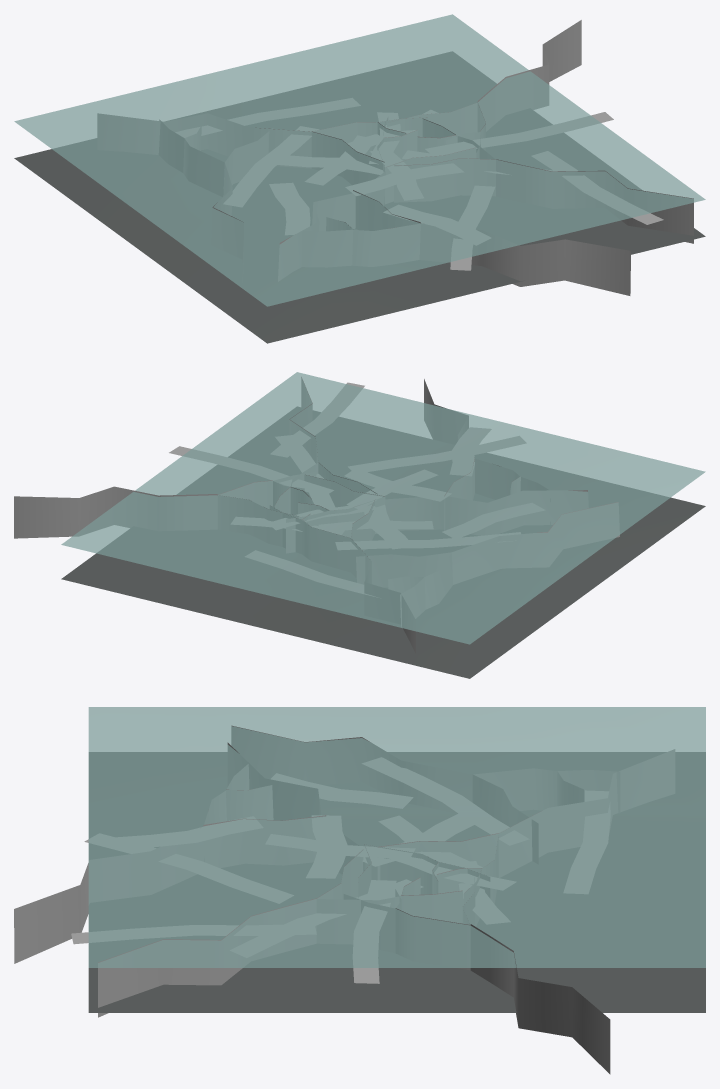
Rendered from icelake333.fbx.
The picture shows the model from 3 angles, top to bottom: view 1: azimuth 30°, elevation 25°; view 2: azimuth 150°, elevation 25°; view 3: azimuth 270°, elevation 25°; orthographic projection. The views are drawn at different scales.
Parts seen in each view (by area): view 1: polySurface15; view 2: polySurface15; view 3: polySurface15.
Part boxes in pixels (x1=…): polySurface15: x1=14, y1=14, x2=705, y2=343; polySurface15: x1=14, y1=372, x2=705, y2=678; polySurface15: x1=14, y1=707, x2=705, y2=1074.
Size of the model in its own units: 3.61 by 0.3519 by 3.36.
